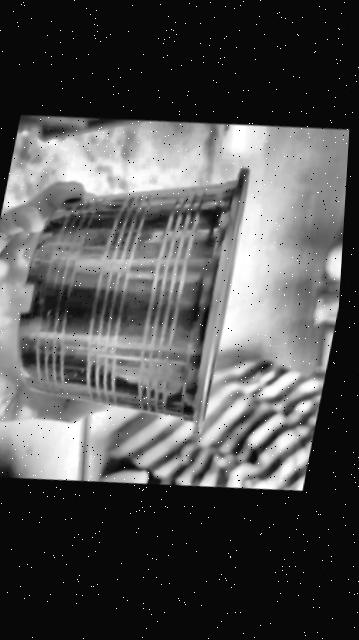pot: (17, 169, 247, 432)
